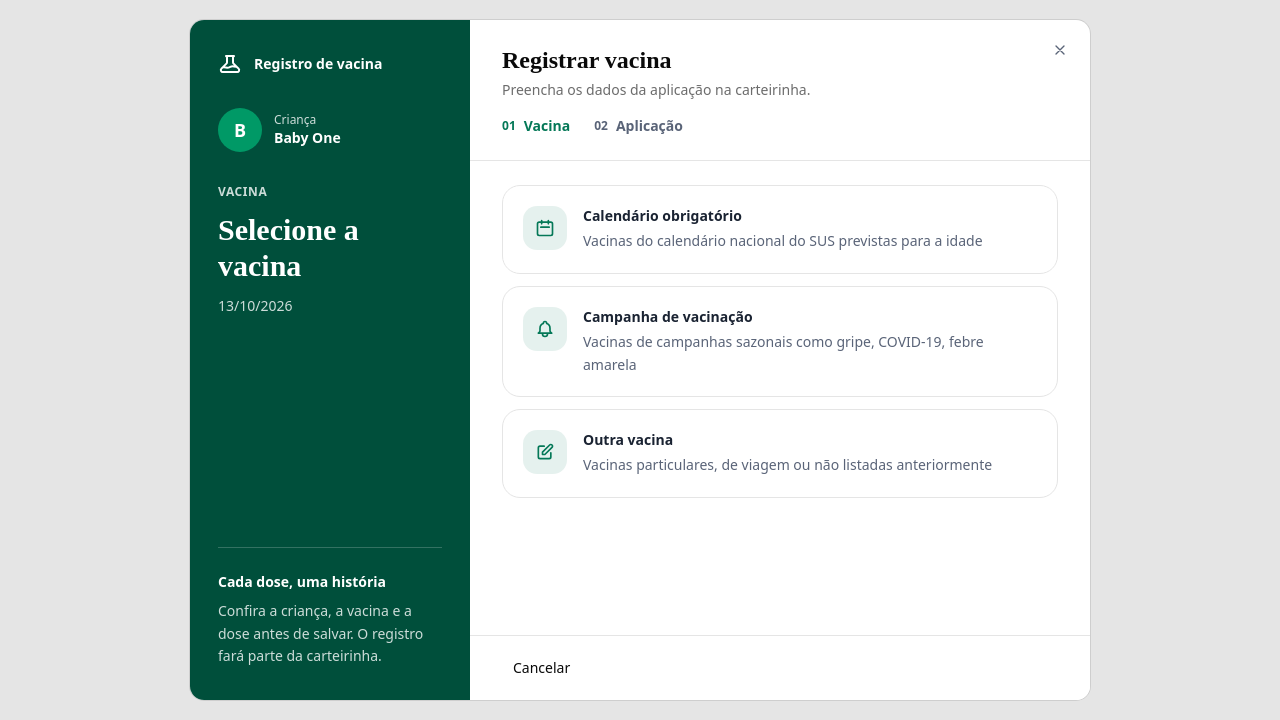
Test case: RegisterVaccineDialog › distinguishes a failed calendar from an empty one and allows retry
Click the text "Calendário obrigatório": (662,216) [583,206,742,225]
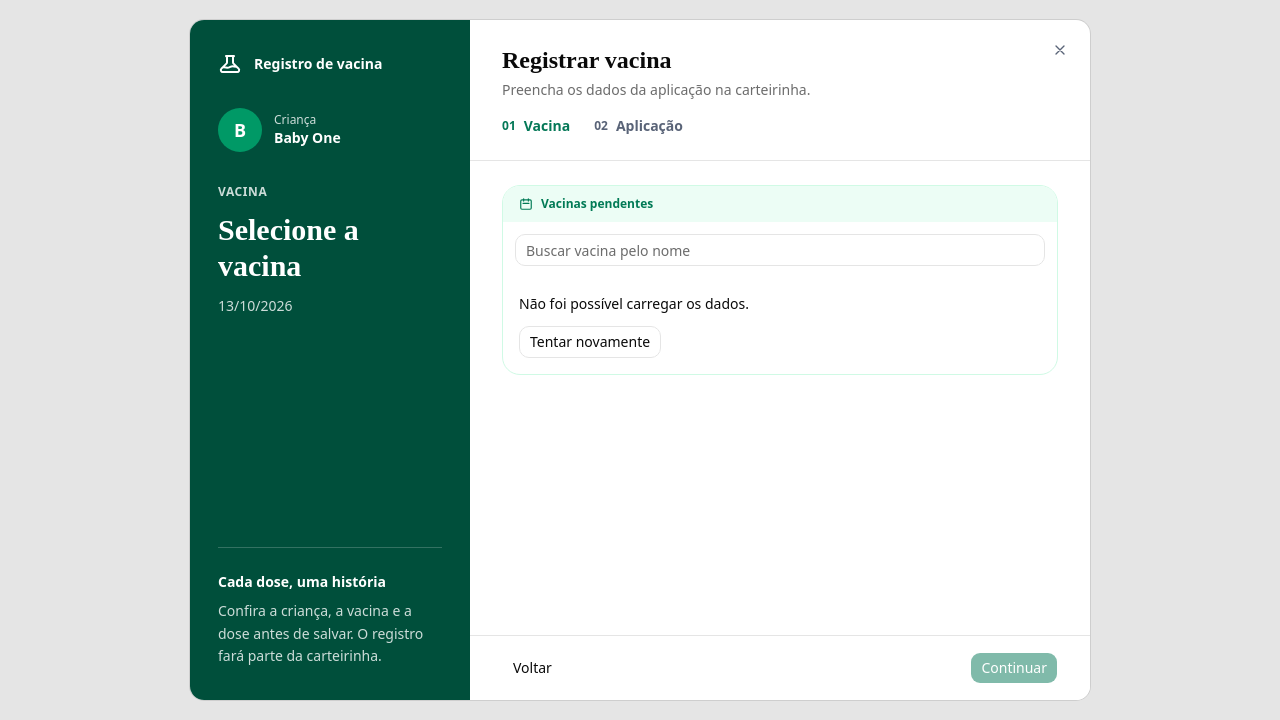
Expected: the message shows "Não foi possível carregar os dados.", [519,294,749,313]
Expected: the button "Continuar" is disabled, [970,652,1058,684]
Click the button "Tentar novamente": (590,342) [519,326,661,358]
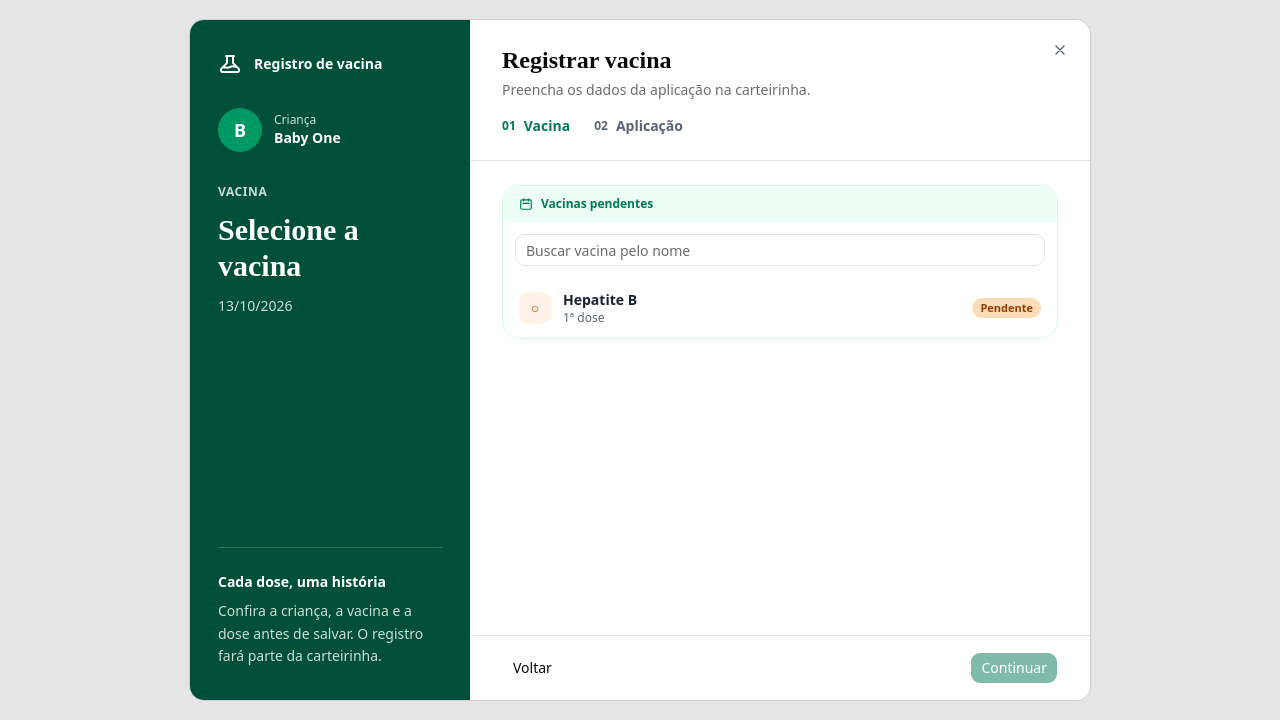
Expected: the text "Hepatite B" is shown, [563,290,637,309]
In the field labelled "Buscar vacina pelo nome": (780,250) [515,234,1045,266], type "Inexistente"
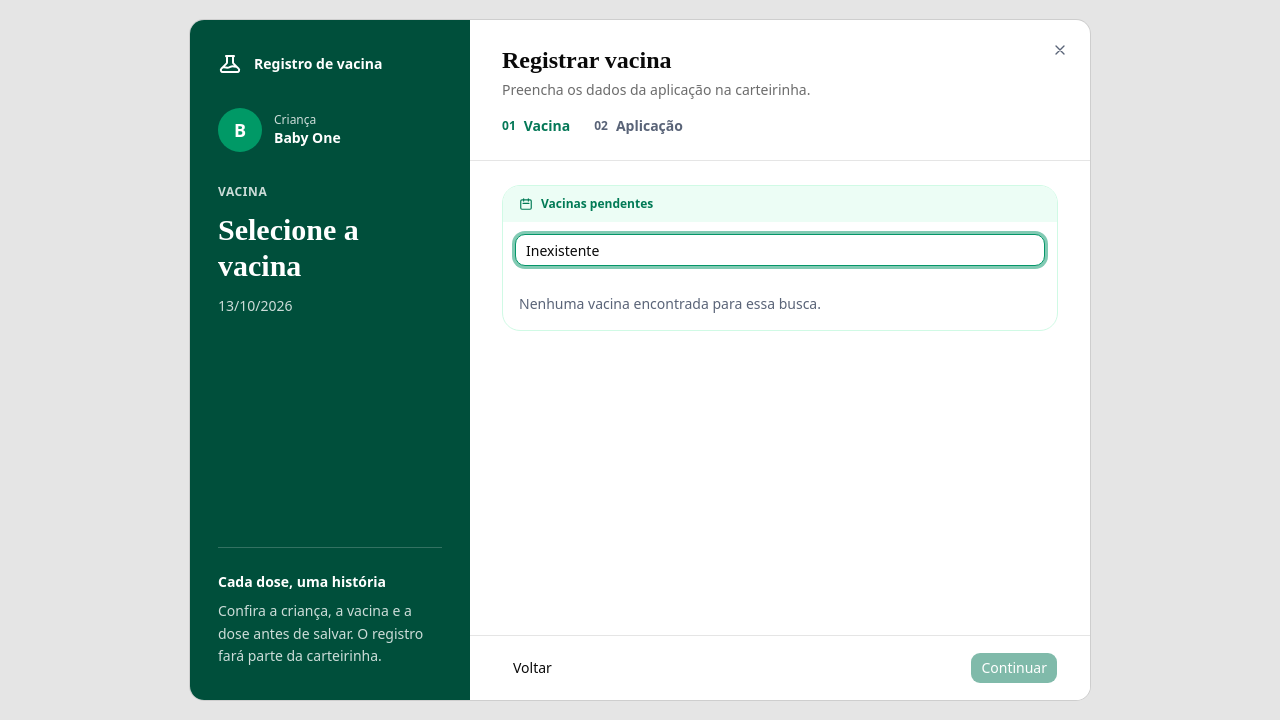
Expected: the message shows "Nenhuma vacina encontrada", [519,294,821,313]
Clear the field named "Buscar vacina pelo nome": (780,250) [515,234,1045,266]
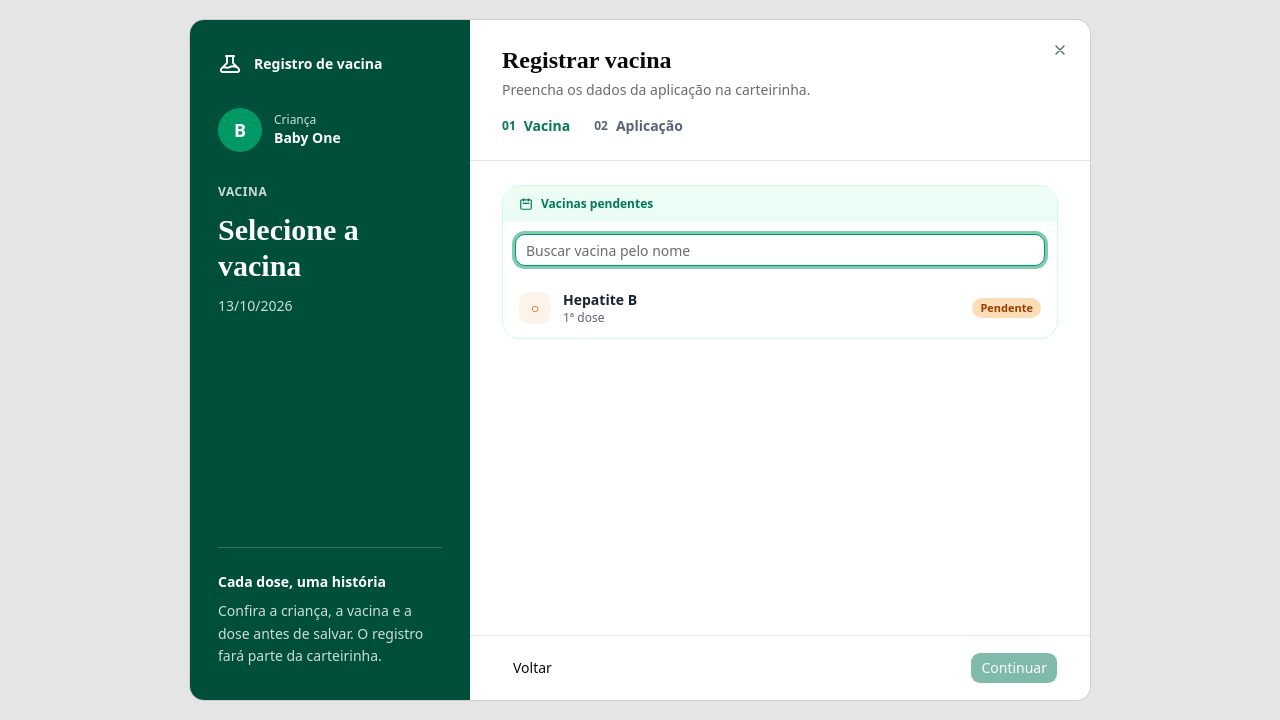
Expected: the text "Hepatite B" is shown, [563,290,637,309]
